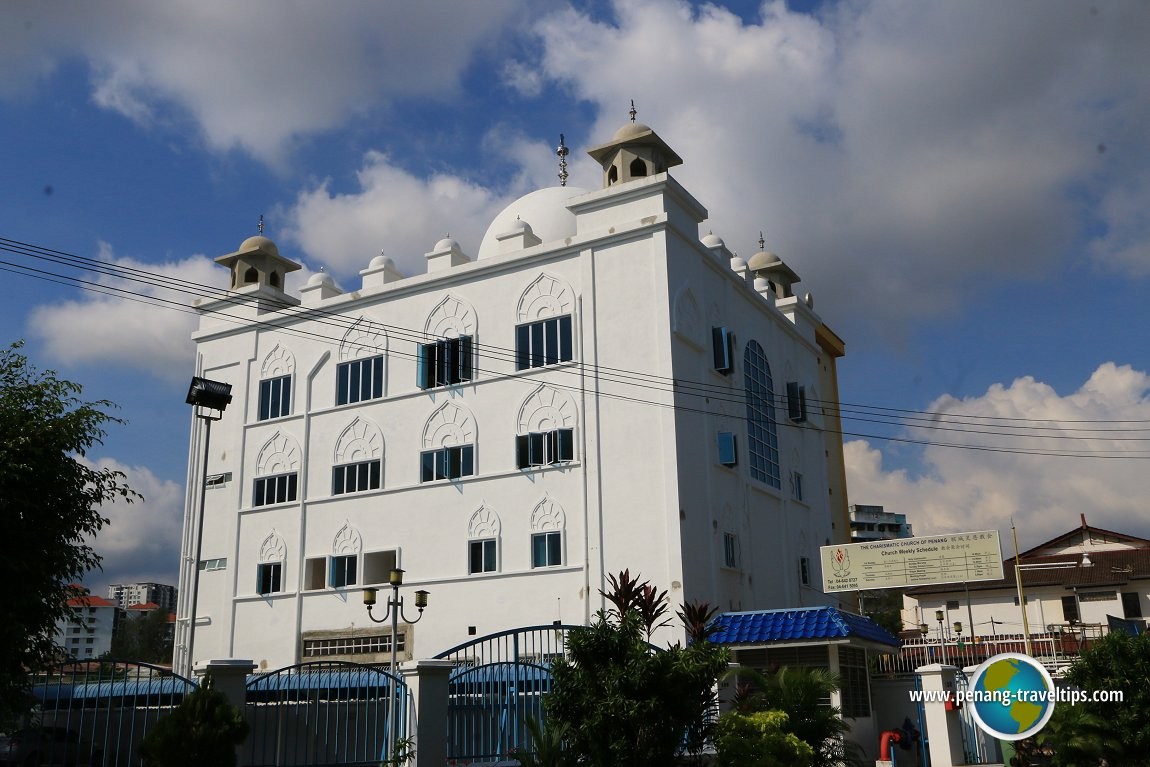Gurdwara: (179, 102, 830, 656)
